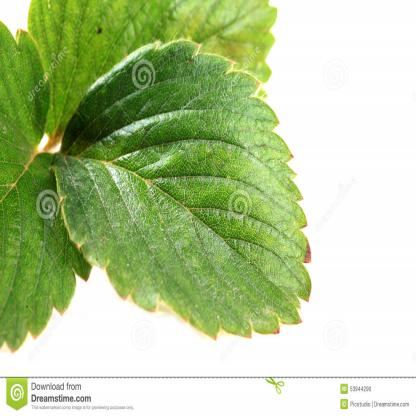strawberry leaf: (52, 38, 317, 349)
